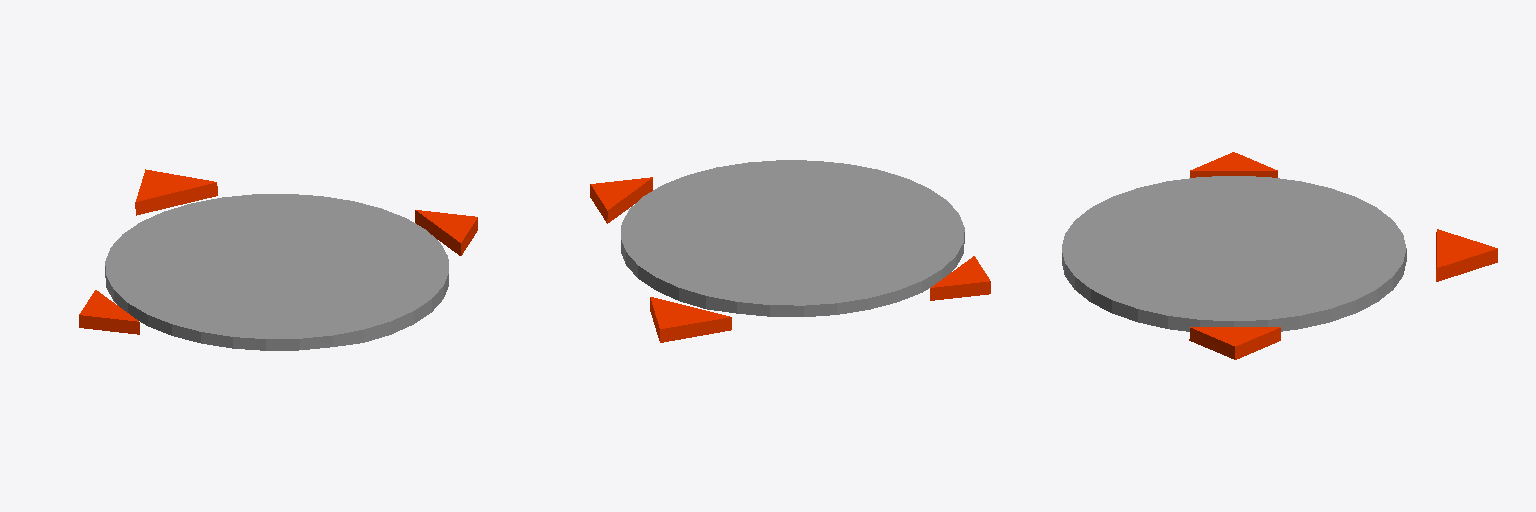
The model's file is VoxelPlate.obj.
3 views of the same model, side by side, from view 1: azimuth 30°, elevation 25°; view 2: azimuth 150°, elevation 25°; view 3: azimuth 270°, elevation 25° (orthographic).
Visible parts, largest first — view 1: VoxelPlate_Cylinder.001, ArrowTop_Plane.003, ArrowLeft_Plane, ArrowRight_Plane.002; view 2: VoxelPlate_Cylinder.001, ArrowTop_Plane.003, ArrowLeft_Plane, ArrowRight_Plane.002; view 3: VoxelPlate_Cylinder.001, ArrowLeft_Plane, ArrowTop_Plane.003, ArrowRight_Plane.002.
Boxes of the visible parts, <box> form: VoxelPlate_Cylinder.001: <box>105,194,448,350</box>; ArrowTop_Plane.003: <box>135,169,217,215</box>; ArrowLeft_Plane: <box>415,210,477,255</box>; ArrowRight_Plane.002: <box>79,290,139,334</box>; VoxelPlate_Cylinder.001: <box>621,160,964,316</box>; ArrowTop_Plane.003: <box>650,297,731,342</box>; ArrowLeft_Plane: <box>590,177,652,223</box>; ArrowRight_Plane.002: <box>930,256,990,300</box>; VoxelPlate_Cylinder.001: <box>1062,176,1406,331</box>; ArrowLeft_Plane: <box>1189,327,1280,359</box>; ArrowTop_Plane.003: <box>1436,229,1497,281</box>; ArrowRight_Plane.002: <box>1190,152,1277,177</box>.
Size of the model in its own units: 3.05 by 0.1018 by 2.89.